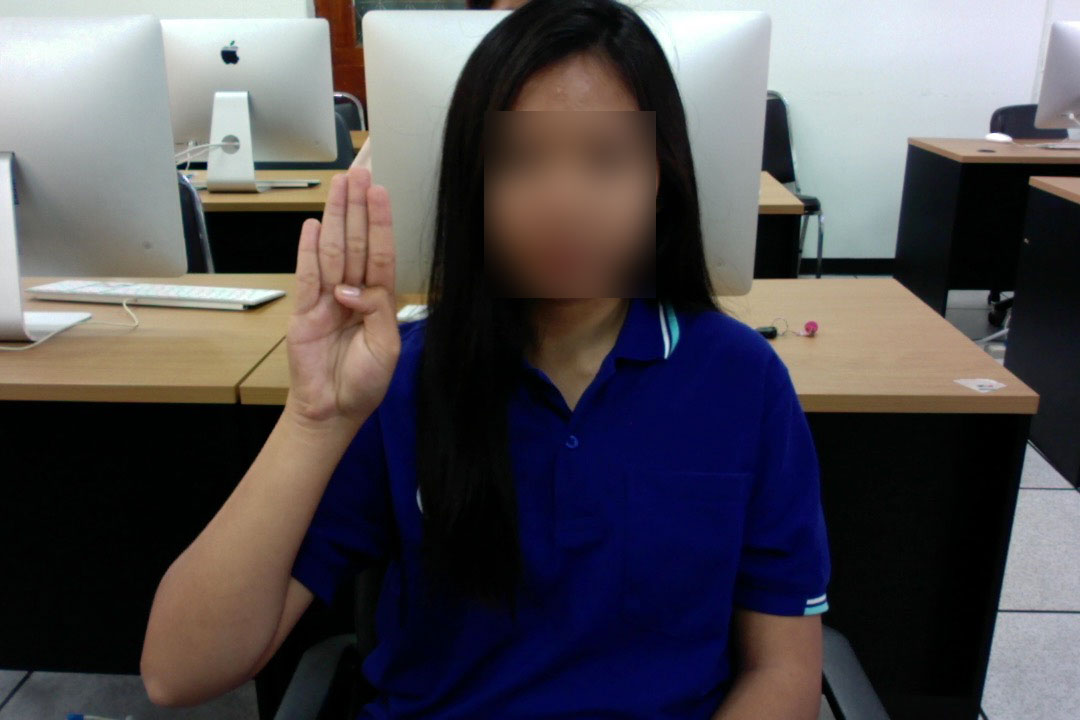bor: (280, 159, 406, 438)
